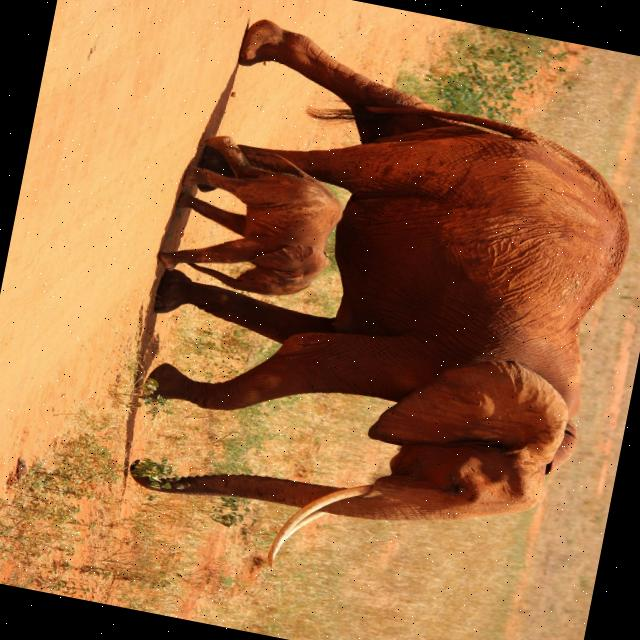Elephant: (109, 8, 640, 623), (154, 128, 352, 308)
